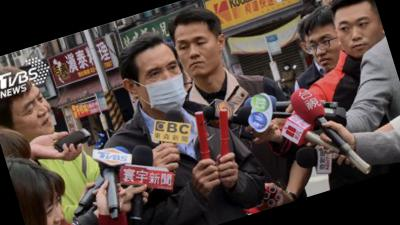with_mask: (138, 57, 195, 121)
without_mask: (174, 28, 228, 84), (334, 9, 390, 63), (13, 87, 59, 141), (307, 30, 346, 76), (35, 193, 74, 225)
